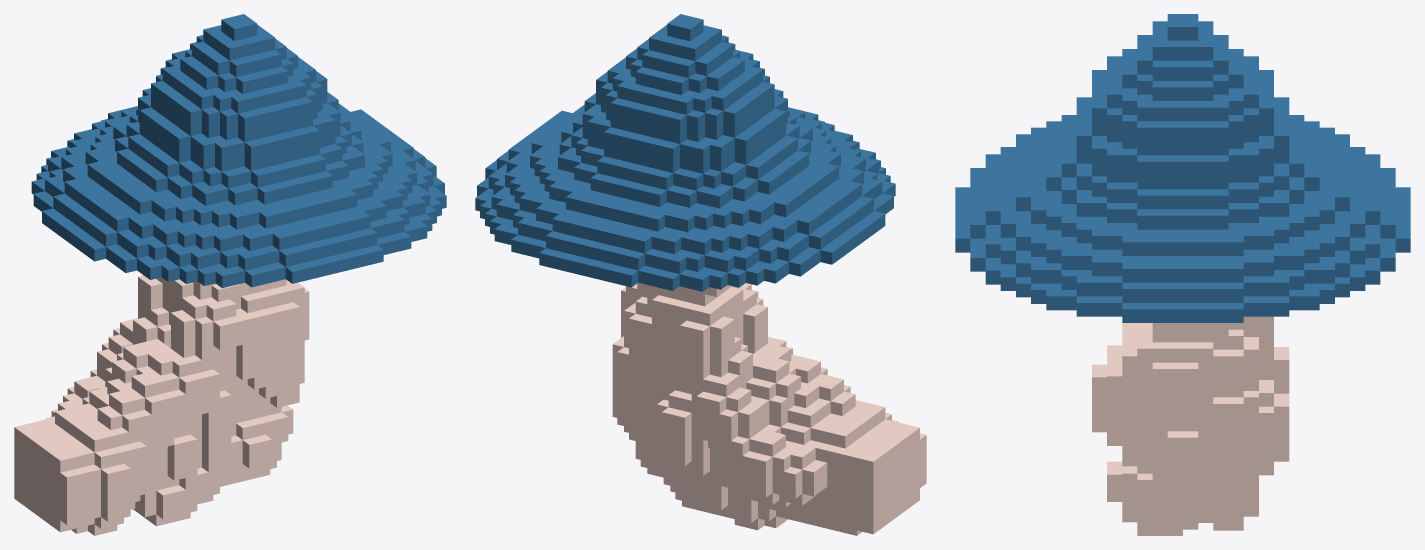
File: Shroom6.obj
3 views of the same model, side by side, from view 1: azimuth 30°, elevation 25°; view 2: azimuth 150°, elevation 25°; view 3: azimuth 270°, elevation 25° (orthographic). The views are drawn at different scales.
Visible parts, largest first — view 1: Shroom6; view 2: Shroom6; view 3: Shroom6.
Boxes of the visible parts, box(x1,y1,x2,y2) form: Shroom6: box(14, 14, 446, 535); Shroom6: box(475, 14, 926, 535); Shroom6: box(955, 14, 1410, 535).
Size of the model in its own units: 33 by 39 by 30.
Materials: 1 (1 with a texture image).
